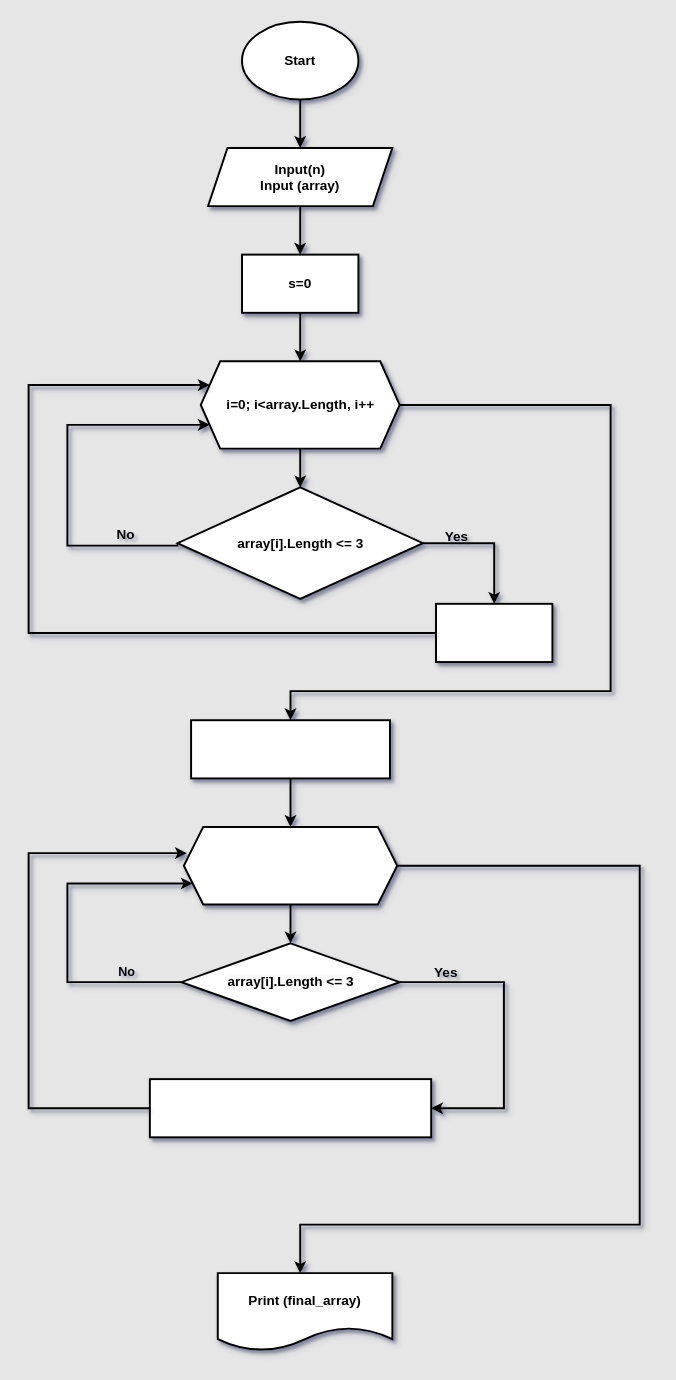
Some shapes in this 676 by 1380 pixel diagram are drawn without their labels. The centre of each missing label's shape, as x and y in pixels:
fina_array[j] = array[i] j = j + 1: the point at 291,1109
final_array = new array [s]: the point at 291,750
i=0; j =0, i<array.Length, i++: the point at 291,867
s = s + 1: the point at 495,633
